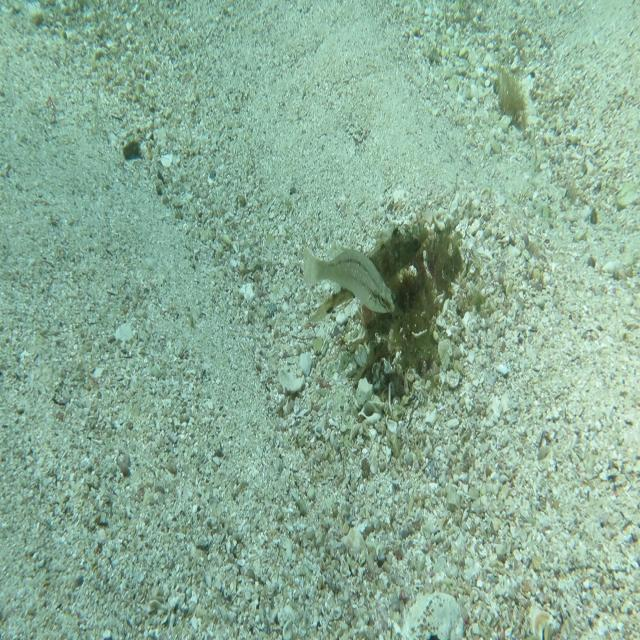ROLL: (306, 219, 429, 325)
core_nest: (417, 244, 451, 278)
female: (302, 242, 396, 314)
nest: (346, 203, 474, 419)
vegetation: (486, 60, 530, 128), (122, 135, 144, 165)
